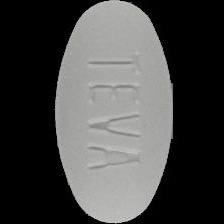0093-7270: (0, 0, 224, 224)
